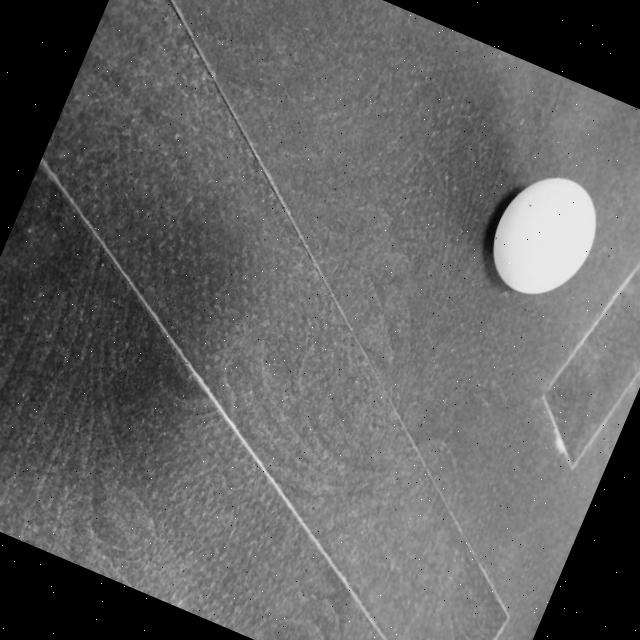ping-pong-ball: (476, 160, 614, 308)
